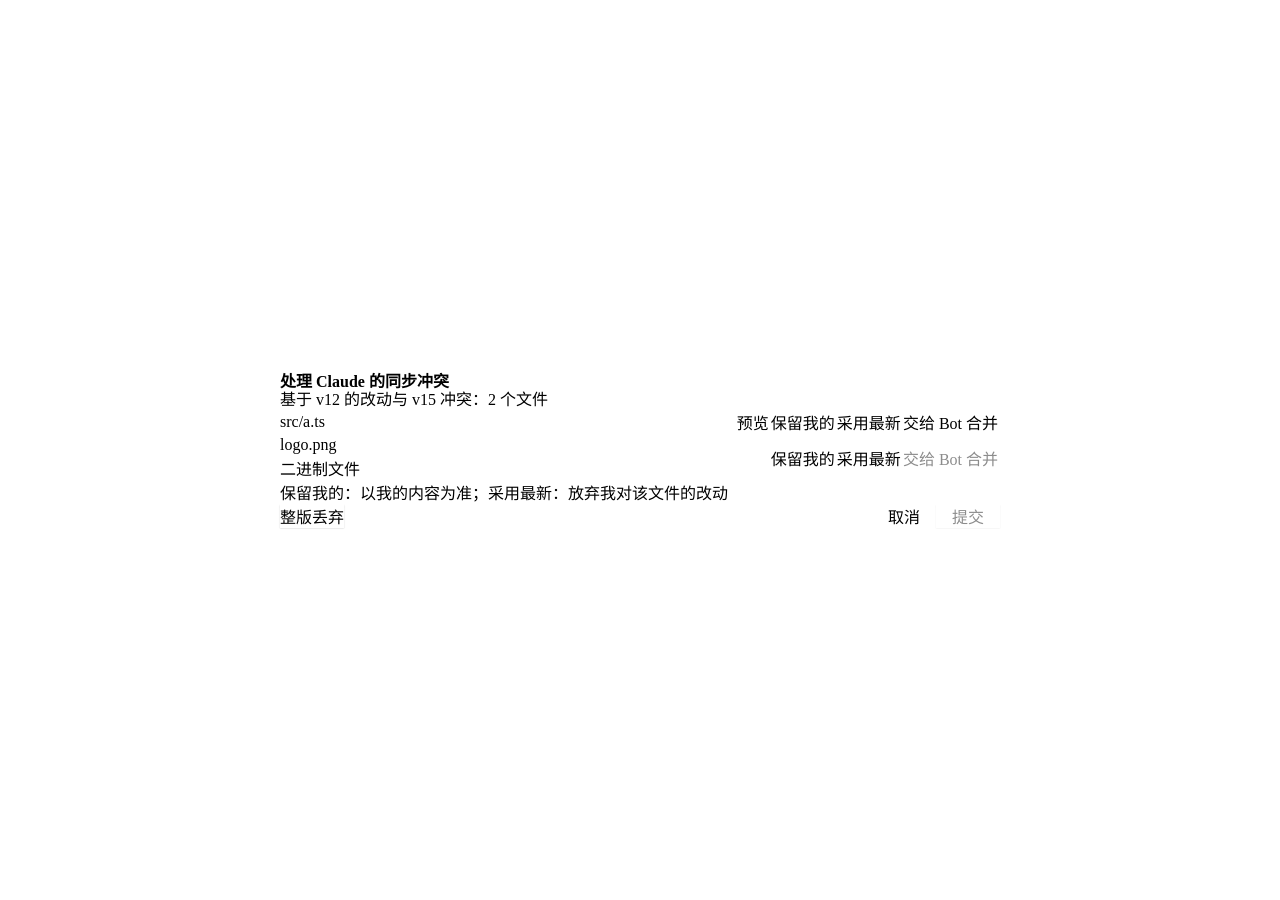
conflict dialog › previews my change and the latest change against the base
Click the button "预览" at (753, 422), box x1=737 y1=410 x2=769 y2=434
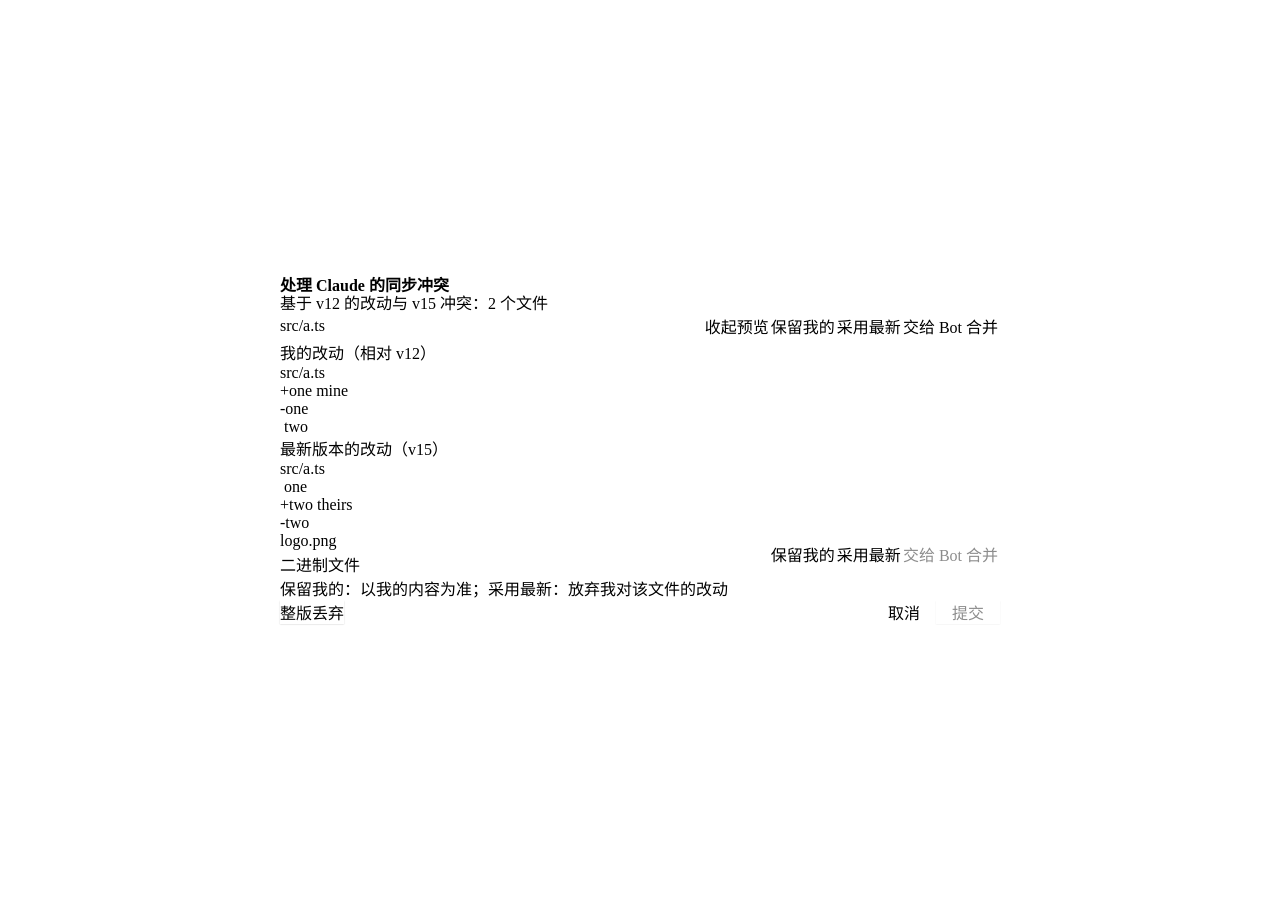
Now the text "我的改动（相对 v12）" is shown, box x1=280 y1=345 x2=436 y2=362
Now the text "最新版本的改动（v15）" is shown, box x1=280 y1=441 x2=448 y2=458
Now the text "+one mine" is shown, box x1=280 y1=382 x2=348 y2=399
